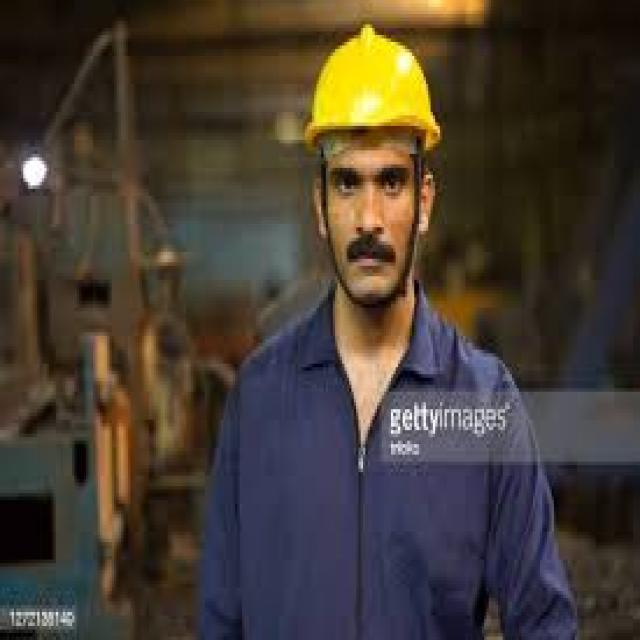safety_helmet: (297, 23, 446, 160)
